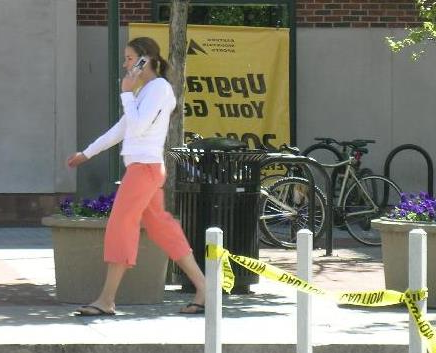pedestrian: (68, 38, 205, 316)
